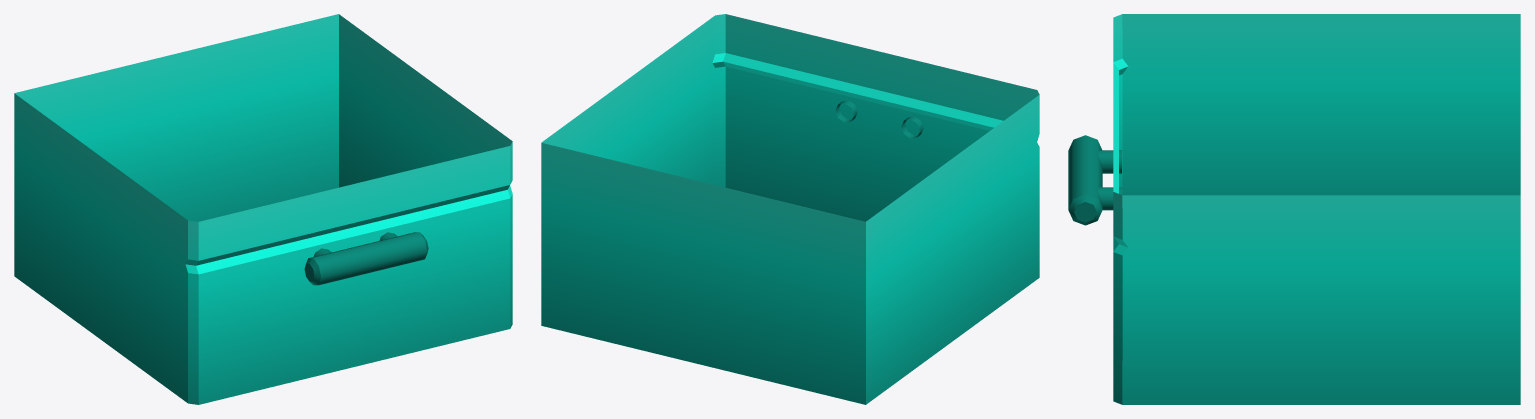
File: Counter_01_v02_C05.fbx
3 renders of one model, left to right at view 1: azimuth 30°, elevation 25°; view 2: azimuth 150°, elevation 25°; view 3: azimuth 270°, elevation 25°, orthographic. The views are drawn at different scales.
Parts seen in each view (by area): view 1: Counter_01_v02_C05; view 2: Counter_01_v02_C05; view 3: Counter_01_v02_C05.
Part boxes in pixels (box(x1,y1,x2,y2)): Counter_01_v02_C05: box(14, 14, 512, 404); Counter_01_v02_C05: box(541, 14, 1039, 404); Counter_01_v02_C05: box(1068, 14, 1520, 404).
Bounding box in the file's own units: 100 × 53.91 × 105.
